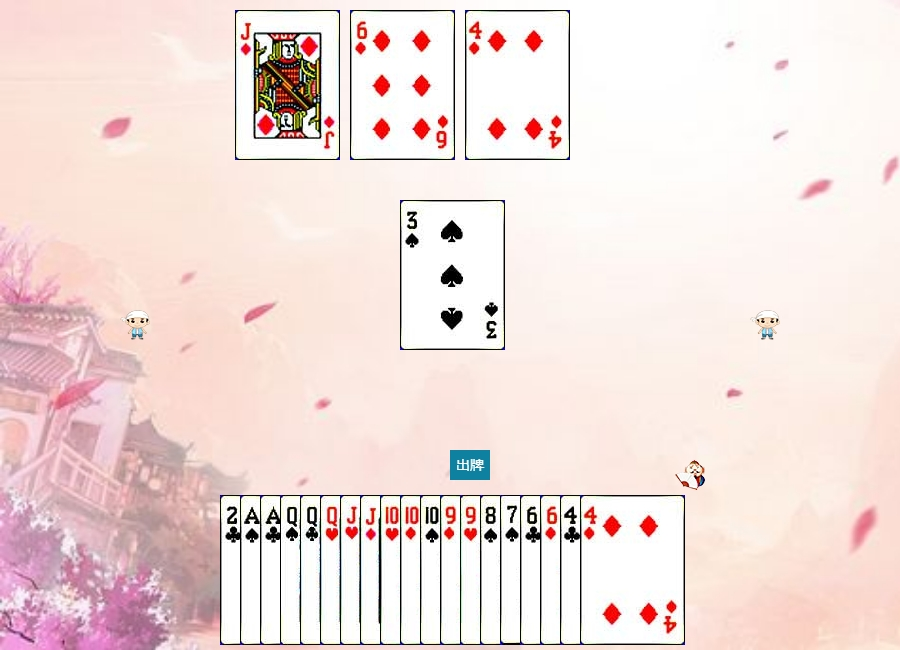10~1: (400, 495, 505, 645)
10~3: (380, 495, 485, 645)
10~4: (420, 495, 525, 645)
11~1: (235, 10, 340, 160), (360, 495, 465, 645)
11~3: (340, 495, 445, 645)
12~2: (300, 495, 405, 645)
12~3: (320, 495, 425, 645)
12~4: (280, 495, 385, 645)
14~2: (260, 495, 365, 645)
14~4: (240, 495, 345, 645)
15~2: (220, 495, 325, 645)
3~4: (400, 200, 505, 350)
4~1: (465, 10, 570, 160), (580, 495, 685, 645)
4~2: (560, 495, 665, 645)
6~1: (350, 10, 455, 160), (540, 495, 645, 645)
6~2: (520, 495, 625, 645)
7~4: (500, 495, 605, 645)
8~4: (480, 495, 585, 645)
9~1: (440, 495, 545, 645)
9~3: (460, 495, 565, 645)
